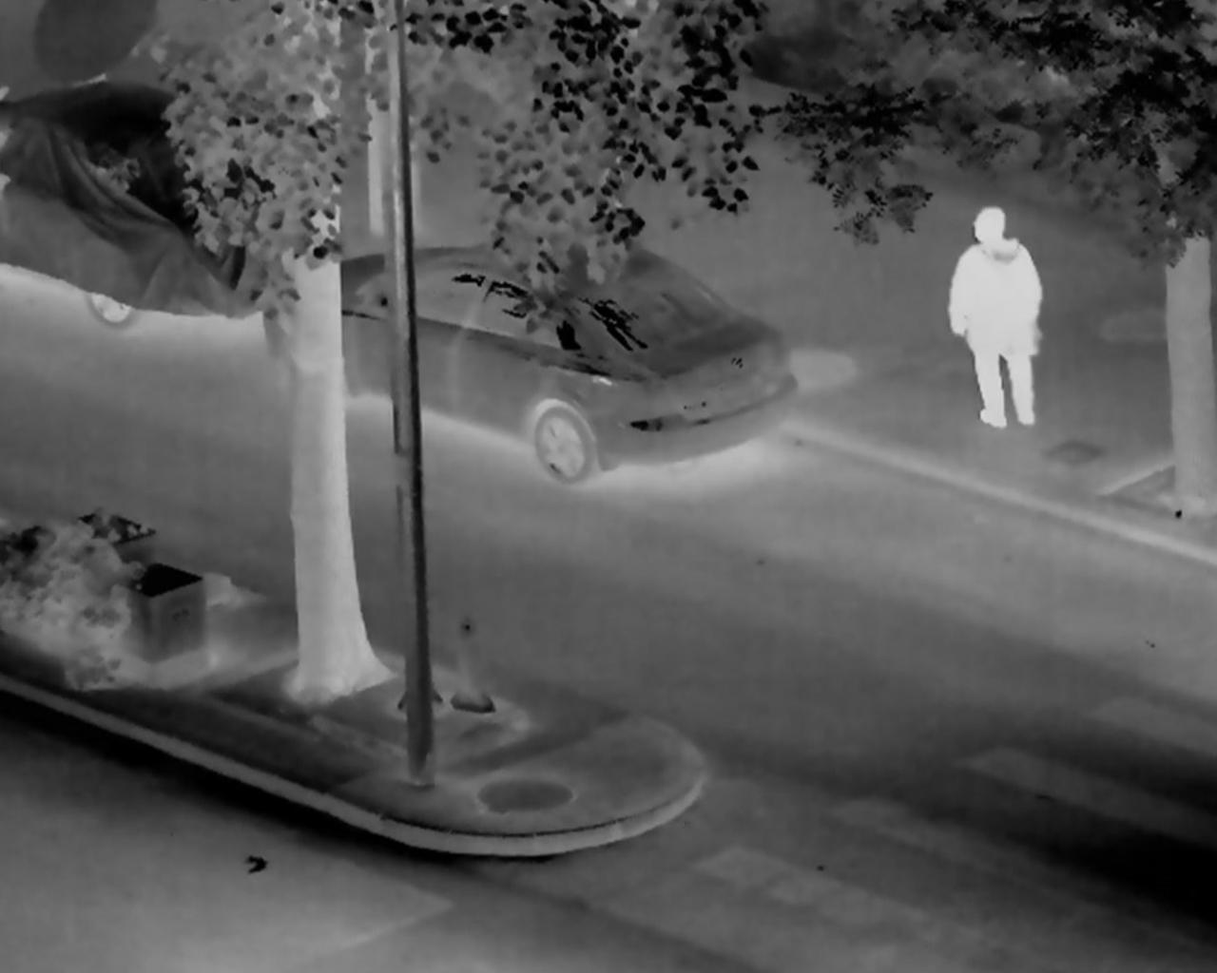person: (948, 210, 1040, 430)
